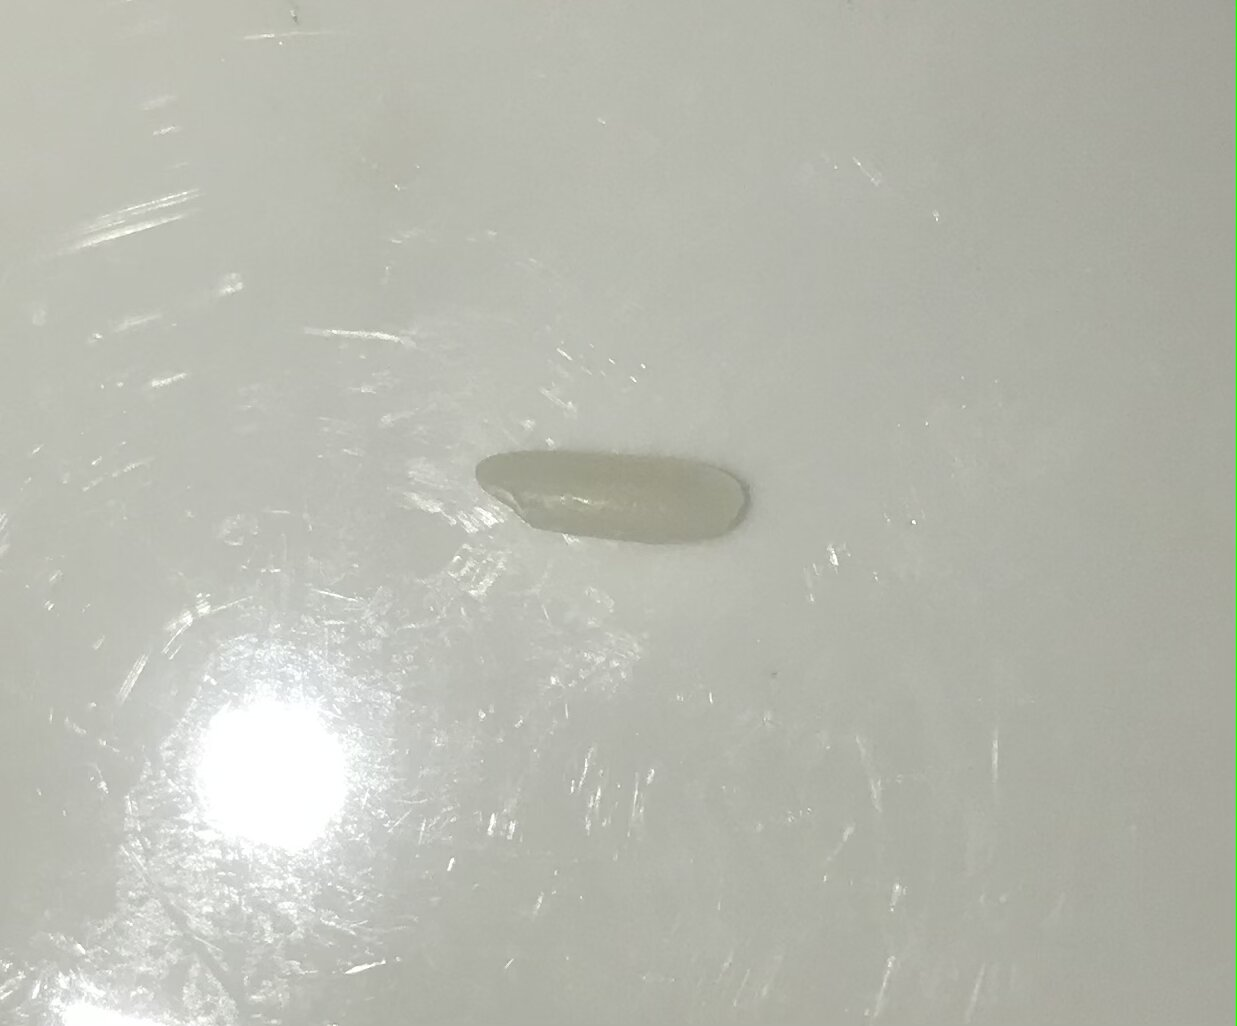Gao Lai Sua: (466, 439, 753, 564)
